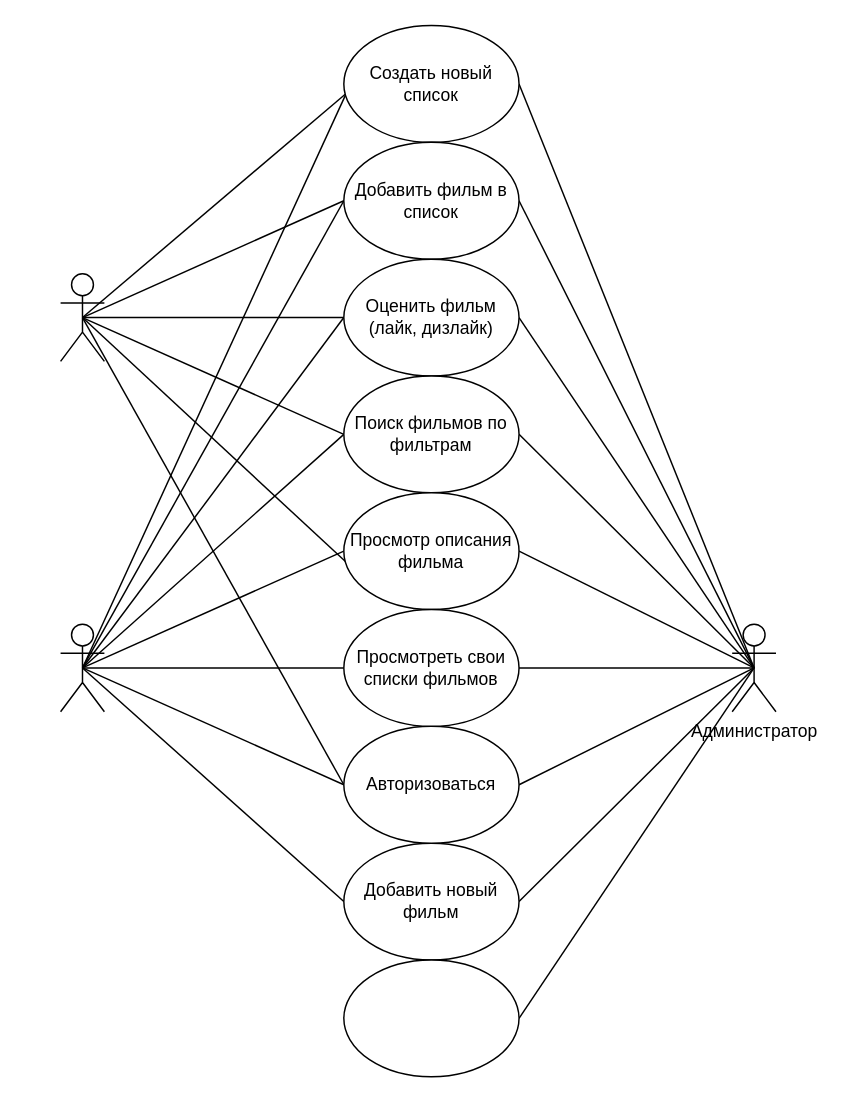
This 842x1102 diagram has some shape labels left out. Each missing label, with the centre of its shape:
"Выдать права доступа" belongs at (430,1017).
"Модератор" belongs at (81,667).
"Пользователь" belongs at (81,316).
